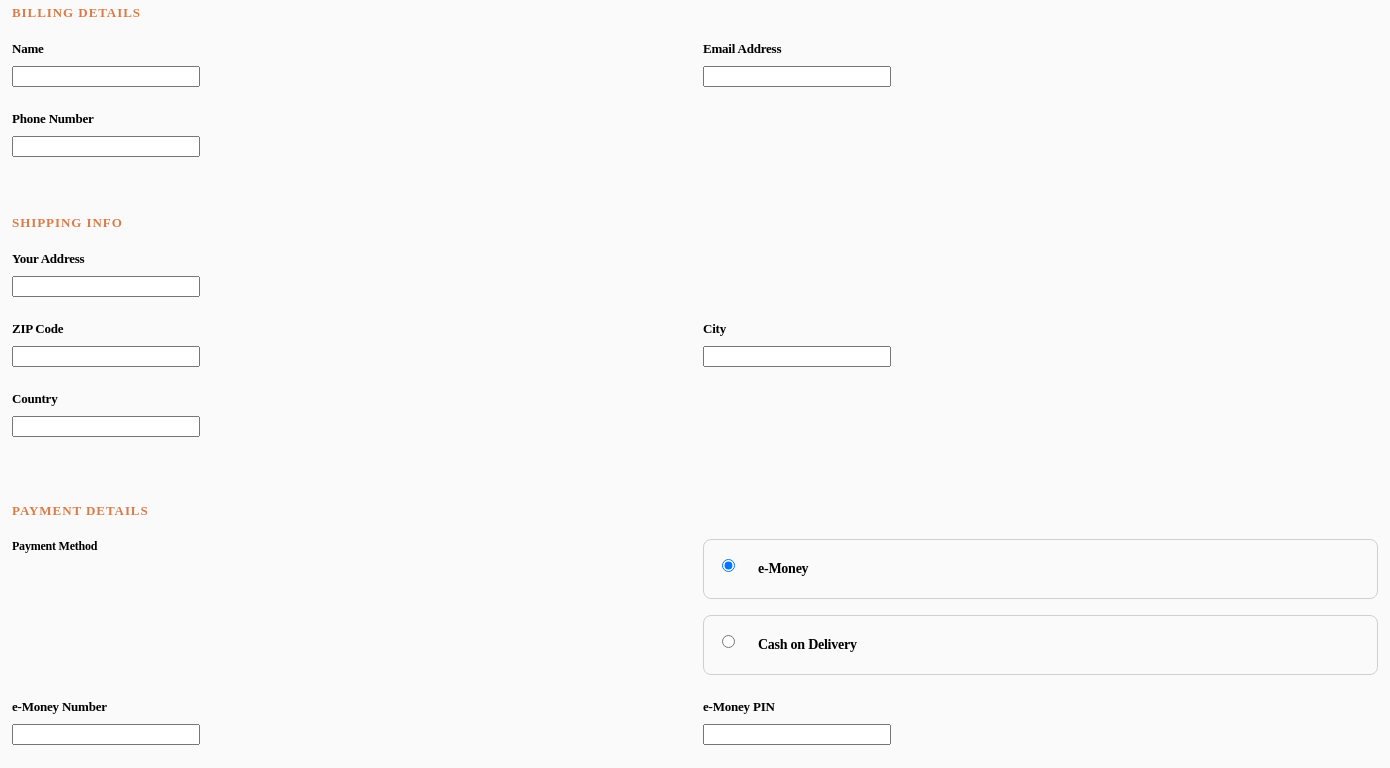
Scenario: BillingDetails › Interactions › Form validation › hides the required error message in Email Address field after non-empty value is inputted
# Show required error message
Click the field labelled "Email Address" at x=797, y=76, box [703, 66, 891, 87]
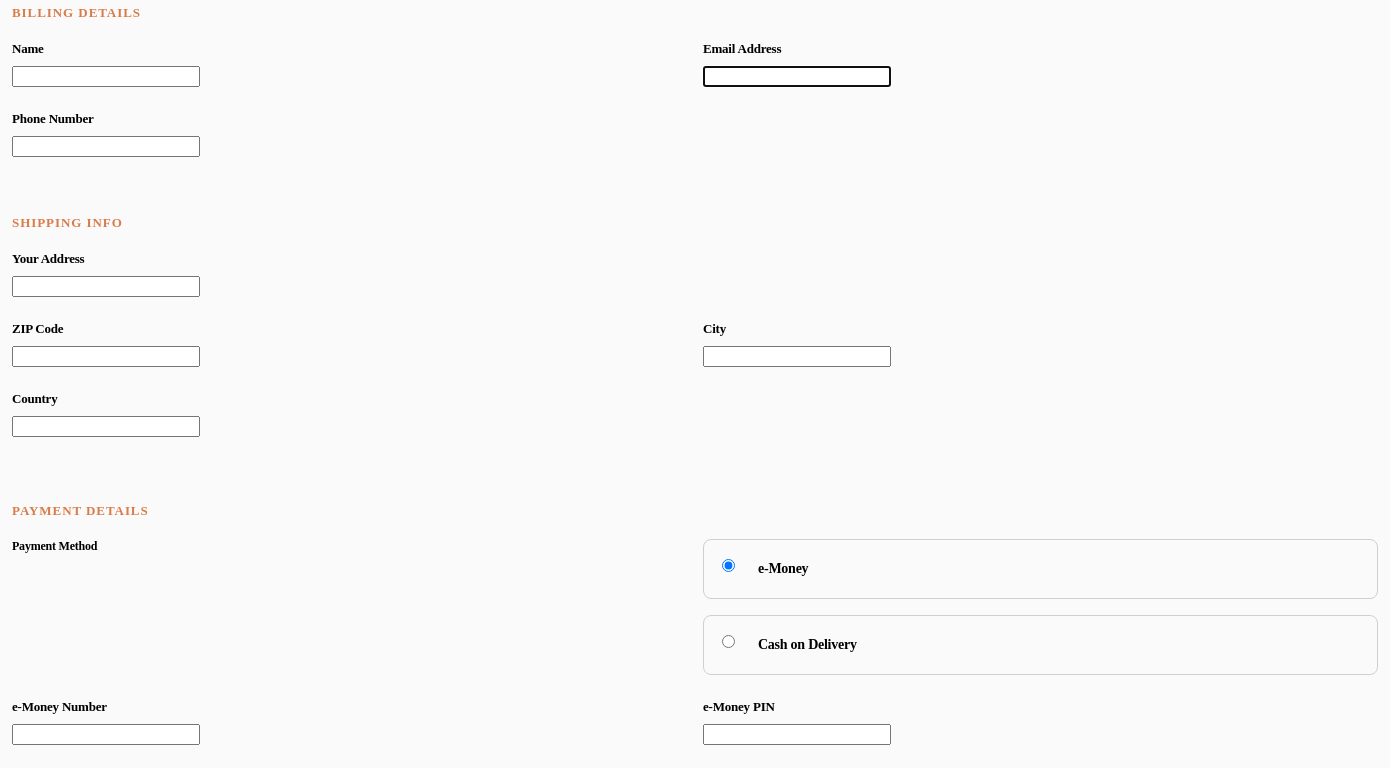
Click the element that starts with "Billing Details" at x=695, y=384, box [12, 0, 1378, 767]
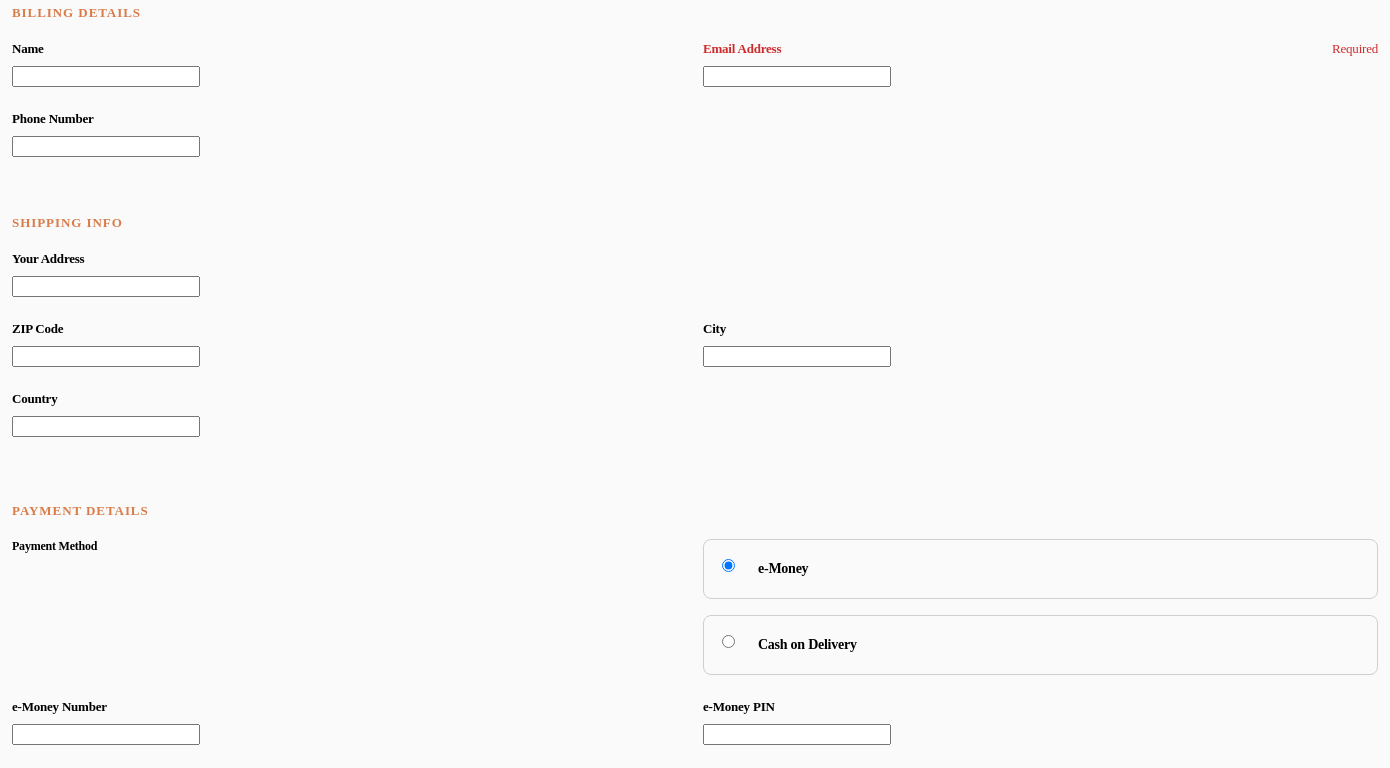
Now the text "Required" is shown, box [1332, 41, 1378, 57]
# Input something to remove required error message
Type "t" into the field labelled "Email Address" at x=797, y=76, box [703, 66, 891, 87]
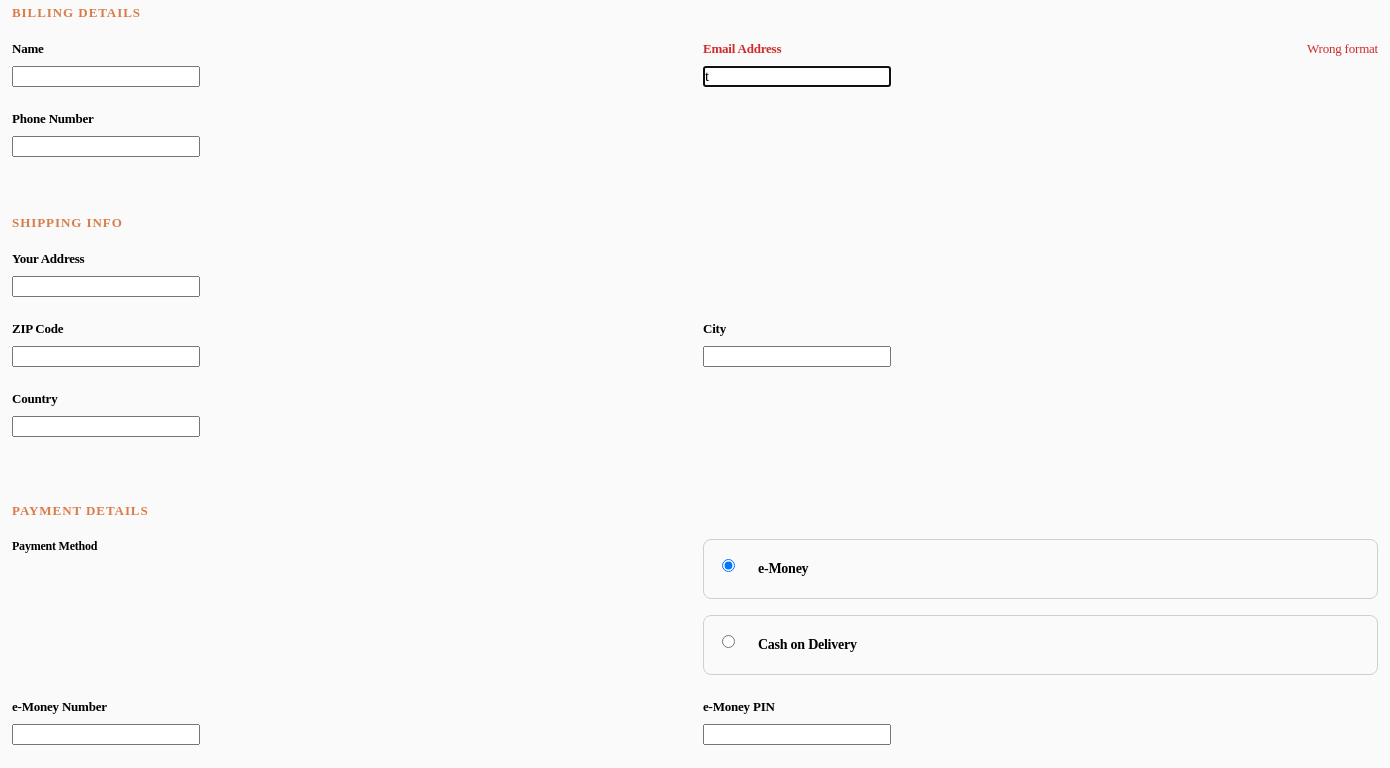
Now the text "Required" is gone
